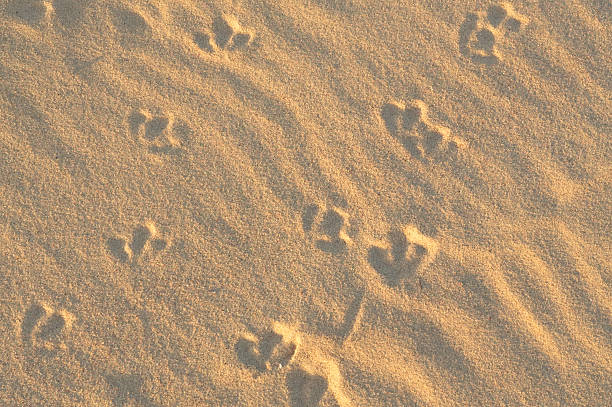animal_footprint: (381, 99, 464, 158), (368, 225, 437, 285), (459, 2, 525, 64), (286, 351, 352, 406), (236, 323, 299, 373), (21, 303, 74, 350), (107, 222, 167, 263), (128, 110, 183, 154), (302, 204, 350, 252), (193, 15, 253, 51), (106, 374, 158, 406), (286, 368, 328, 406), (6, 0, 49, 23)
